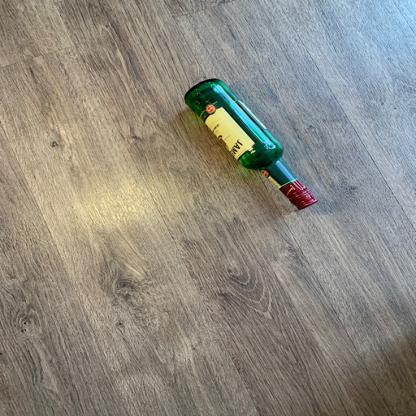trash: (182, 77, 320, 214)
